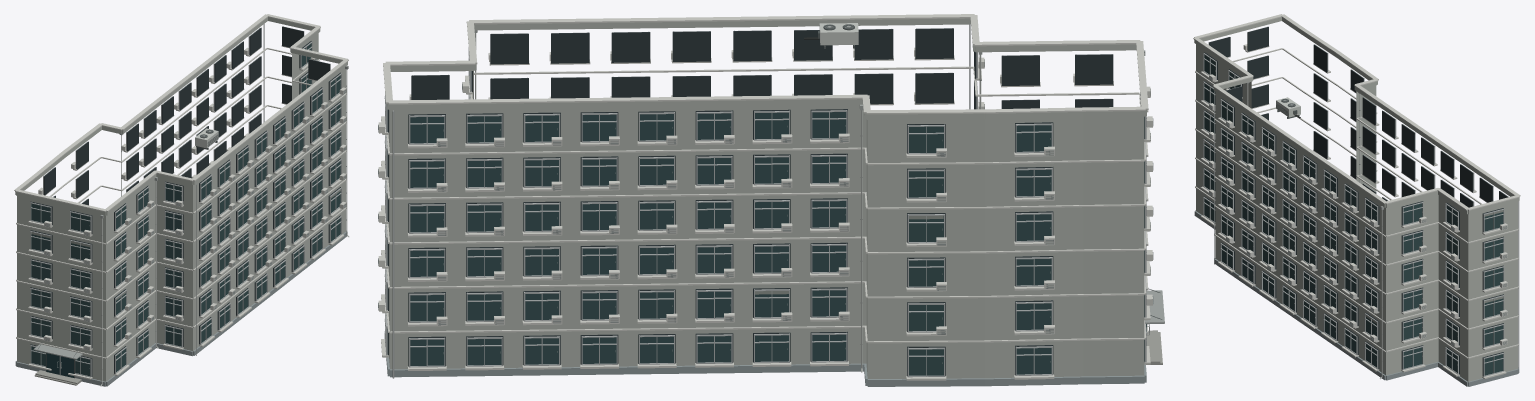
Rendered from osm_way_225198909.glb.
3 renders of one model, left to right at view 1: azimuth 30°, elevation 25°; view 2: azimuth 150°, elevation 25°; view 3: azimuth 270°, elevation 25°, orthographic. The views are drawn at different scales.
Visible parts, largest first — view 1: Windows and facade details | 23, Architecture | 23, Roof services | 23, EXTERIOR::osm_way_225198909::rainwater and roof service deta, EXTERIOR::osm_way_225198909::inferred entry doors canopy and; view 2: Architecture | 23, Windows and facade details | 23, Roof services | 23, EXTERIOR::osm_way_225198909::rainwater and roof service deta, EXTERIOR::osm_way_225198909::inferred entry doors canopy and; view 3: Windows and facade details | 23, Architecture | 23, Roof services | 23, EXTERIOR::osm_way_225198909::rainwater and roof service deta.
Boxes of the visible parts, <box> form: Windows and facade details | 23: <box>28,24,346,379</box>; Architecture | 23: <box>15,17,347,386</box>; Roof services | 23: <box>14,14,348,211</box>; EXTERIOR::osm_way_225198909::rainwater and roof service deta: <box>100,65,349,386</box>; EXTERIOR::osm_way_225198909::inferred entry doors canopy and: <box>33,341,82,385</box>; Architecture | 23: <box>384,18,1146,386</box>; Windows and facade details | 23: <box>378,24,1153,380</box>; Roof services | 23: <box>383,14,1148,114</box>; EXTERIOR::osm_way_225198909::rainwater and roof service deta: <box>474,23,1145,372</box>; EXTERIOR::osm_way_225198909::inferred entry doors canopy and: <box>1145,288,1164,364</box>; Windows and facade details | 23: <box>1200,26,1519,379</box>; Architecture | 23: <box>1194,17,1519,386</box>; Roof services | 23: <box>1193,14,1520,210</box>; EXTERIOR::osm_way_225198909::rainwater and roof service deta: <box>1247,82,1383,379</box>.
Bounding box in the file's own units: 46.68 × 20.58 × 32.94.
